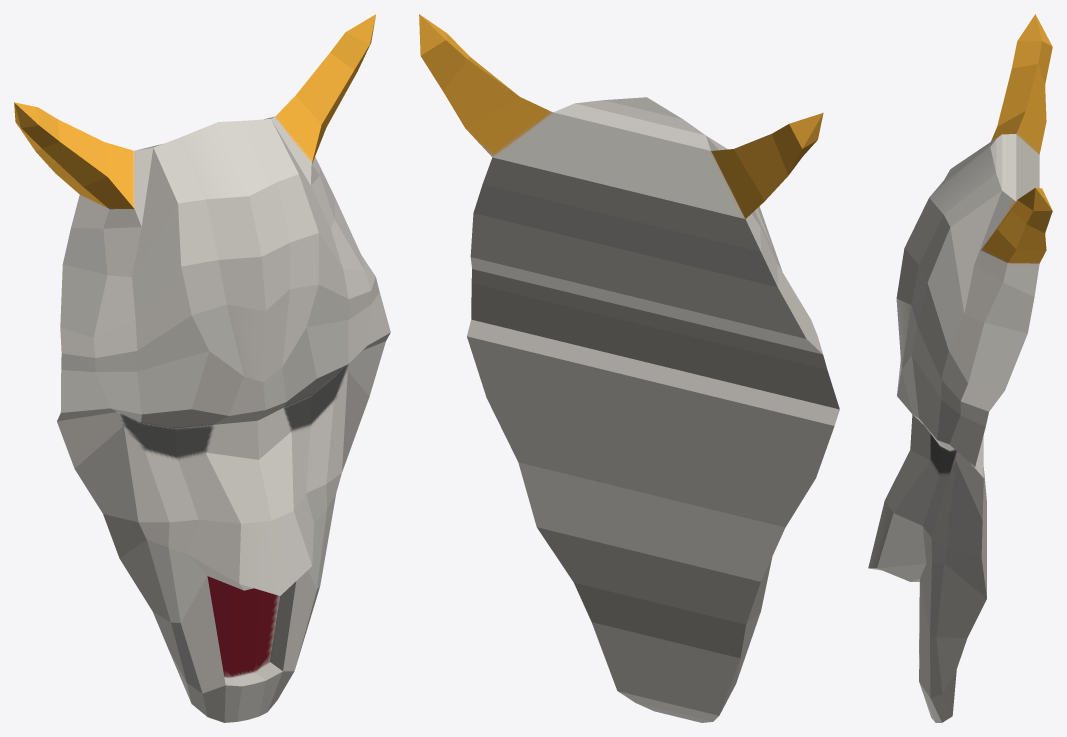
File: EvilMaskItem.fbx
3 views of the same model, side by side, from view 1: azimuth 30°, elevation 25°; view 2: azimuth 150°, elevation 25°; view 3: azimuth 270°, elevation 25° (orthographic). The views are drawn at different scales.
Visible parts, largest first — view 1: EvilMask; view 2: EvilMask; view 3: EvilMask.
Part boxes in pixels (left/top/right/bottom): EvilMask: left=14, top=14, right=390, bottom=722; EvilMask: left=419, top=14, right=839, bottom=722; EvilMask: left=868, top=14, right=1052, bottom=722.
Size of the model in its own units: 8.87 by 14.58 by 3.98.
Materials: 1 (1 with a texture image).
